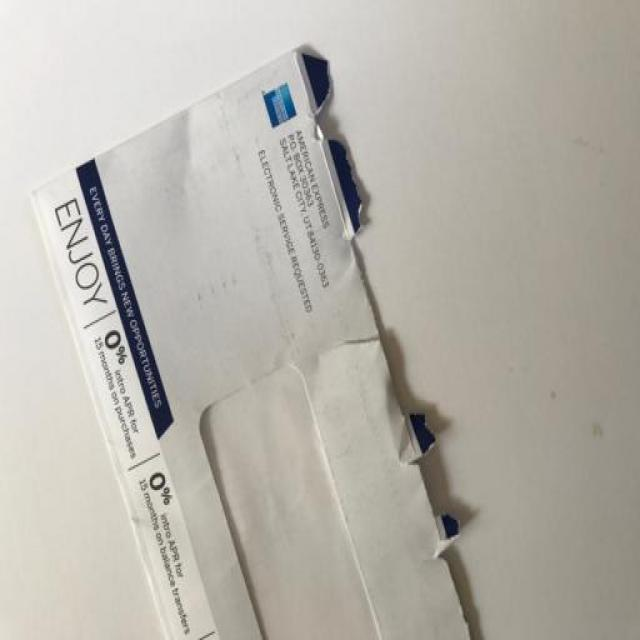paper: (35, 57, 486, 640)
